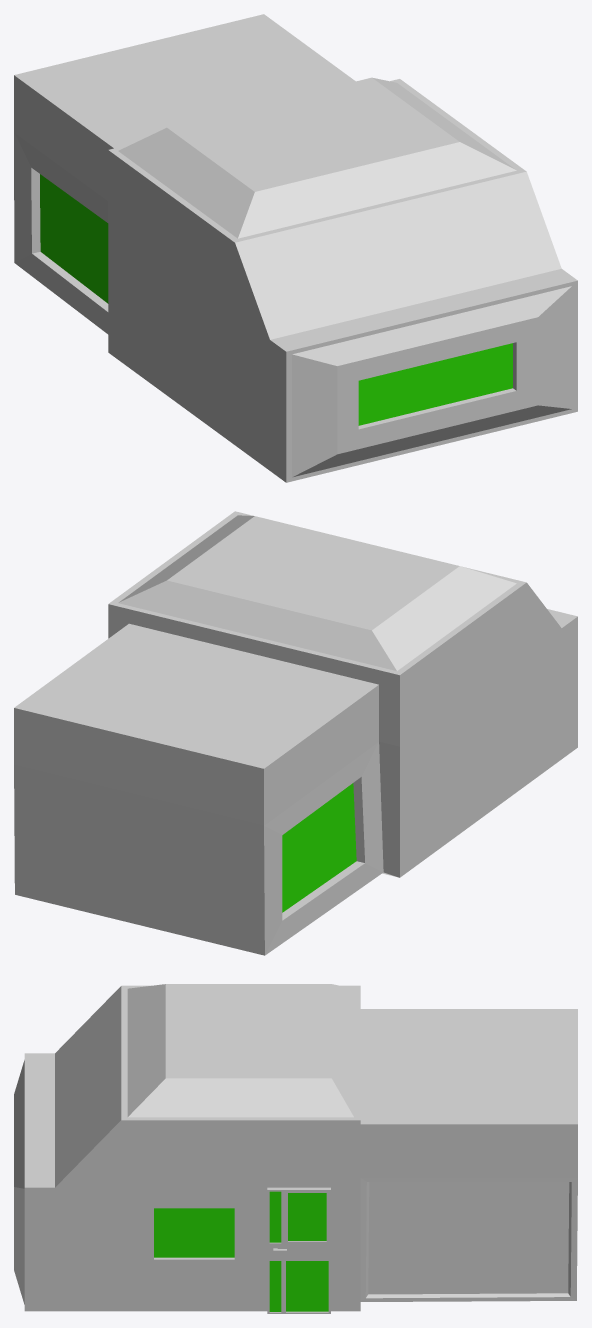
The model's file is huisie.fbx.
3 views of the same model, one above another, from view 1: azimuth 30°, elevation 25°; view 2: azimuth 150°, elevation 25°; view 3: azimuth 270°, elevation 25° (orthographic). The views are drawn at different scales.
Visible parts, largest first — view 1: Cube; view 2: Cube; view 3: Cube.
Boxes of the visible parts, left/top/right/bottom form: Cube: left=14, top=14, right=577, bottom=482; Cube: left=14, top=511, right=577, bottom=955; Cube: left=14, top=984, right=577, bottom=1313.
Bounding box in the file's own units: 7 × 5 × 12.
